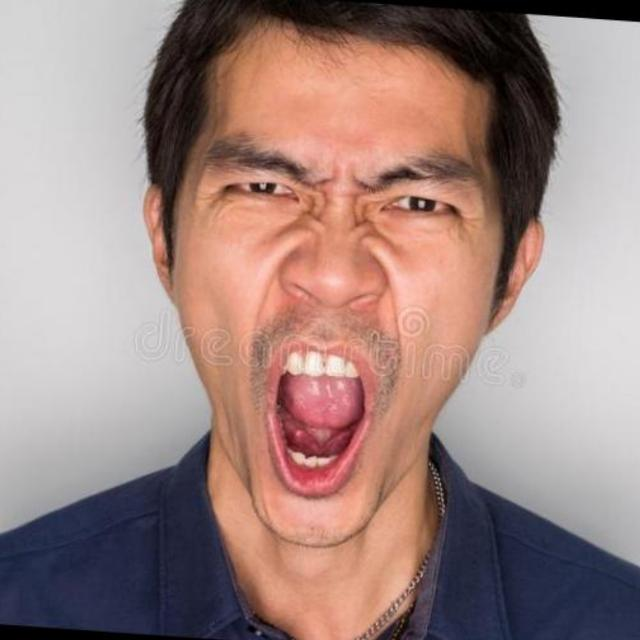Angry: (125, 118, 525, 594)
